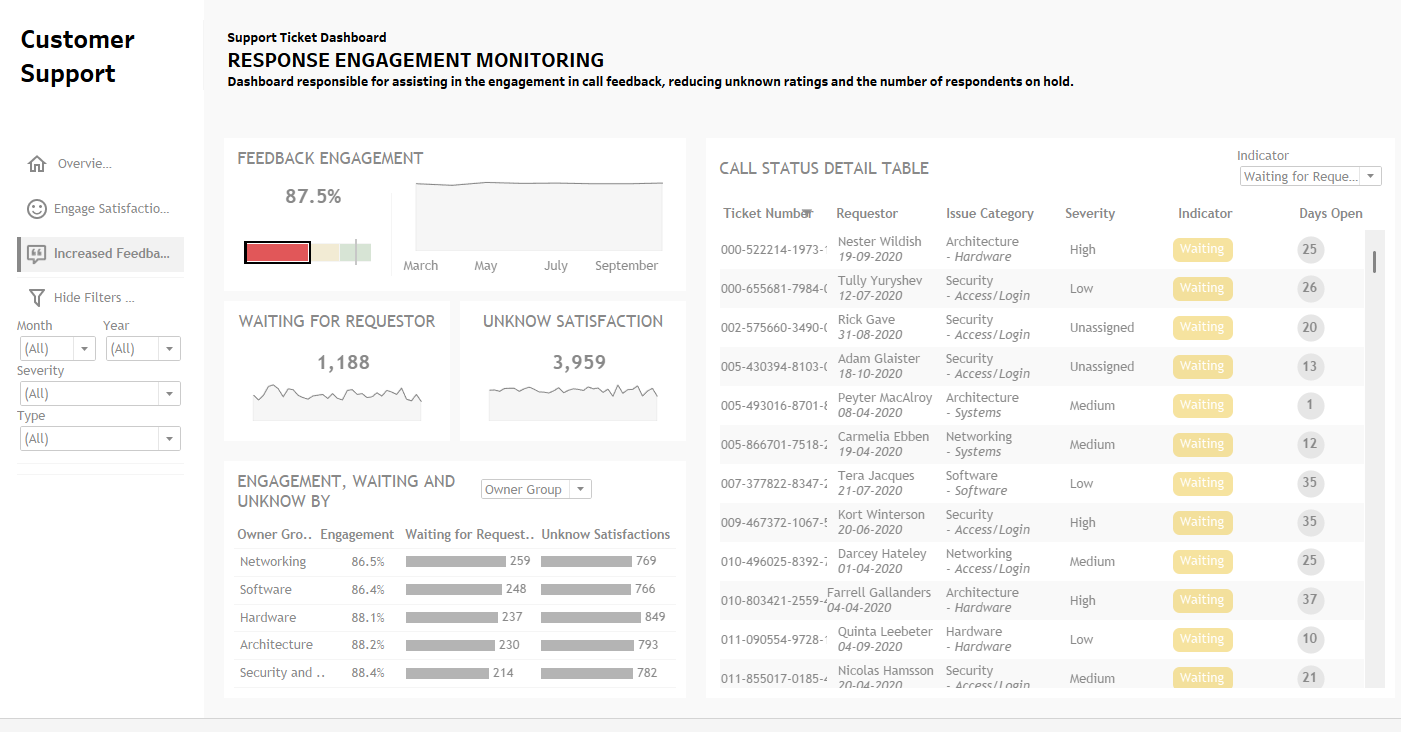

This screenshot's page, from the dashboard's own definition file:
{"tool":"tableau","page":{"name":"Increased Feedback - Light","canvas":[1420,720],"ordinal":1},"visuals":[{"type":"text","box":[1,1,206,110]},{"type":"blank","box":[207,1,1,110]},{"type":"text","box":[208,1,1211,118]},{"type":"text","box":[970,87,265,60]},{"type":"blank","box":[1,111,207,32]},{"type":"text","box":[228,139,462,40]},{"type":"text","box":[710,139,521,60]},{"type":"parameter","param":"[Parameters].[Parâmetro 6]","box":[1231,139,168,60]},{"type":"blank","box":[970,147,265,7]},{"type":"blank","box":[21,148,4,35]},{"type":"image","param":"Image/Home.png","box":[25,148,30,35]},{"type":"dashboard-object","box":[55,148,75,35]},{"type":"blank","box":[130,148,58,35]},{"type":"text","box":[970,154,265,310]},{"type":"blank","box":[226,165,157,55]},{"type":"worksheet","title":"Increased Feedback Light - Feedback Engagement","mark":"Square","box":[228,179,167,35]},{"type":"blank","box":[395,179,1,113]},{"type":"worksheet","title":"Increased Feedback Light - Engagement by Week","mark":"Line","rows":["Calculation_1188950346097377284","Calculation_1188950346097377284"],"cols":["created_date"],"box":[396,179,294,113]},{"type":"blank","box":[21,193,4,35]},{"type":"image","param":"Image/Engage.png","box":[25,193,30,35]},{"type":"dashboard-object","box":[55,193,123,35]},{"type":"blank","box":[178,193,10,35]},{"type":"text","box":[720,199,113,32]},{"type":"text","box":[833,199,110,32]},{"type":"text","box":[943,199,119,32]},{"type":"text","box":[1062,199,113,32]},{"type":"text","box":[1175,199,121,32]},{"type":"text","box":[1295.9,199,93.1,32]},{"type":"dashboard-object","box":[805,203,12,24]},{"type":"worksheet","title":"Increased Feedback Light - Feedback Engagement Speedometer","mark":"Bar","cols":["Calculation_1188950346097377284"],"box":[228,214,167,78]},{"type":"worksheet","title":"Increased Feedback Light -Table of Details","mark":"Circle","rows":["ticket_number"],"cols":["Calculation_361413912478396419","Calculation_361413912480407562","Calculation_361413912478396419","Calculation_361413912478396419","Calculation_925771243185537029","Calculation_925771243185631238"],"box":[710,231,689,468]},{"type":"text","box":[720,231,121,32]},{"type":"filter","title":"Increased Feedback Light -Table of Details","param":"[federated.0cysz861ktjxcq1fd9xv01acxm97].[none:ticket_number:nk]","box":[841,231,164,32]},{"type":"blank","box":[21,238,4,35]},{"type":"image","param":"Image/Feedback.png","box":[25,238,30,35]},{"type":"dashboard-object","box":[55,238,128,35]},{"type":"blank","box":[183,238,5,35]},{"type":"blank","box":[1,278,207,1]},{"type":"blank","box":[21,284,4,30]},{"type":"image","param":"Image/Filter Menu.png","box":[25,284,30,30]},{"type":"dashboard-object","box":[55,284,88,30]},{"type":"blank","box":[143,284,45,30]},{"type":"text","box":[228,302,226,40]},{"type":"text","box":[464,302,226,40]},{"type":"blank","box":[223,305,484,75]},{"type":"filter","title":"Increased Feedback Light -Table of Details","param":"[federated.0cysz861ktjxcq1fd9xv01acxm97].[none:Filter Year (cópia)_3909687863732","box":[21,319,84,45]},{"type":"filter","title":"Increased Feedback Light - Engagement by Week","param":"[federated.0cysz861ktjxcq1fd9xv01acxm97].[none:Calculation_390968786373120002:ok","box":[105,319,83,45]},{"type":"worksheet","title":"Increased Feedback Light - Waiting for Requester","mark":"Square","box":[228,342,226,41]},{"type":"worksheet","title":"Increased Feedback Light - Unknow Satisfaction","mark":"Square","box":[464,342,226,41]},{"type":"filter","title":"Increased Feedback Light - Engagement by Week","param":"[federated.0cysz861ktjxcq1fd9xv01acxm97].[none:severity:nk]","box":[21,364,167,45]},{"type":"worksheet","title":"Increased Feedback Light - Waiting for Requester by Week","mark":"Line","rows":["# Unknow SatisfactionTickets (cópia)_1188950346120732697","# Unknow SatisfactionTickets (cópia)_1188950346120732697"],"cols":["created_date"],"box":[228,383,226,59]},{"type":"worksheet","title":"Increased Feedback Light - Unknow Satisfaction by Week","mark":"Line","rows":["# Resolved Tickets (cópia)_1188950346114732056","# Resolved Tickets (cópia)_1188950346114732056"],"cols":["created_date"],"box":[464,383,226,59]},{"type":"filter","title":"Increased Feedback Light - Feedback Engagement","param":"[federated.0cysz861ktjxcq1fd9xv01acxm97].[none:ticket_type:nk]","box":[21,409,167,45]},{"type":"text","box":[228,462,254,55]},{"type":"parameter","param":"[Parameters].[Parâmetro 5]","box":[482,462,117,55]},{"type":"blank","box":[599,462,91,55]},{"type":"blank","box":[1,464,207,6]},{"type":"blank","box":[1,470,207,11]},{"type":"blank","box":[1,481,207,238]},{"type":"text","box":[238,522,83,27]},{"type":"text","box":[321,522,85,27]},{"type":"text","box":[406,522,136,27]},{"type":"text","box":[542,522,138,27]},{"type":"worksheet","title":"Increased Feedback Light - Waiting and Unknow by Owner Group","mark":"Automatic","rows":["Calculation_925771243168632832","Calculation_1188950346097377284"],"cols":["# Unknow SatisfactionTickets (cópia)_1188950346120732697","# Resolved Tickets (cópia)_1188950346114732056"],"box":[228,549,462,150]}]}

Visuals, with their boxes on the page's 1420x720 design canvas (x1, y1, x2, y2). These are canvas units, not pixel positions in the 1401x732 screenshot, which may show the page scaled, cropped or inside an application window:
text: region(1, 1, 207, 111)
blank: region(207, 1, 208, 111)
text: region(208, 1, 1419, 119)
text: region(970, 87, 1235, 147)
blank: region(1, 111, 208, 143)
text: region(228, 139, 690, 179)
text: region(710, 139, 1231, 199)
parameter: region(1231, 139, 1399, 199)
blank: region(970, 147, 1235, 154)
blank: region(21, 148, 25, 183)
image: region(25, 148, 55, 183)
dashboard-object: region(55, 148, 130, 183)
blank: region(130, 148, 188, 183)
text: region(970, 154, 1235, 464)
blank: region(226, 165, 383, 220)
"Increased Feedback Light - Feedback Engagement" worksheet (Square marks): region(228, 179, 395, 214)
blank: region(395, 179, 396, 292)
"Increased Feedback Light - Engagement by Week" worksheet (Line marks): region(396, 179, 690, 292)
blank: region(21, 193, 25, 228)
image: region(25, 193, 55, 228)
dashboard-object: region(55, 193, 178, 228)
blank: region(178, 193, 188, 228)
text: region(720, 199, 833, 231)
text: region(833, 199, 943, 231)
text: region(943, 199, 1062, 231)
text: region(1062, 199, 1175, 231)
text: region(1175, 199, 1296, 231)
text: region(1296, 199, 1389, 231)
dashboard-object: region(805, 203, 817, 227)
"Increased Feedback Light - Feedback Engagement Speedometer" worksheet (Bar marks): region(228, 214, 395, 292)
"Increased Feedback Light -Table of Details" worksheet (Circle marks): region(710, 231, 1399, 699)
text: region(720, 231, 841, 263)
"Increased Feedback Light -Table of Details" filter: region(841, 231, 1005, 263)
blank: region(21, 238, 25, 273)
image: region(25, 238, 55, 273)
dashboard-object: region(55, 238, 183, 273)
blank: region(183, 238, 188, 273)
blank: region(1, 278, 208, 279)
blank: region(21, 284, 25, 314)
image: region(25, 284, 55, 314)
dashboard-object: region(55, 284, 143, 314)
blank: region(143, 284, 188, 314)
text: region(228, 302, 454, 342)
text: region(464, 302, 690, 342)
blank: region(223, 305, 707, 380)
"Increased Feedback Light -Table of Details" filter: region(21, 319, 105, 364)
"Increased Feedback Light - Engagement by Week" filter: region(105, 319, 188, 364)
"Increased Feedback Light - Waiting for Requester" worksheet (Square marks): region(228, 342, 454, 383)
"Increased Feedback Light - Unknow Satisfaction" worksheet (Square marks): region(464, 342, 690, 383)
"Increased Feedback Light - Engagement by Week" filter: region(21, 364, 188, 409)
"Increased Feedback Light - Waiting for Requester by Week" worksheet (Line marks): region(228, 383, 454, 442)
"Increased Feedback Light - Unknow Satisfaction by Week" worksheet (Line marks): region(464, 383, 690, 442)
"Increased Feedback Light - Feedback Engagement" filter: region(21, 409, 188, 454)
text: region(228, 462, 482, 517)
parameter: region(482, 462, 599, 517)
blank: region(599, 462, 690, 517)
blank: region(1, 464, 208, 470)
blank: region(1, 470, 208, 481)
blank: region(1, 481, 208, 719)
text: region(238, 522, 321, 549)
text: region(321, 522, 406, 549)
text: region(406, 522, 542, 549)
text: region(542, 522, 680, 549)
"Increased Feedback Light - Waiting and Unknow by Owner Group" worksheet: region(228, 549, 690, 699)
